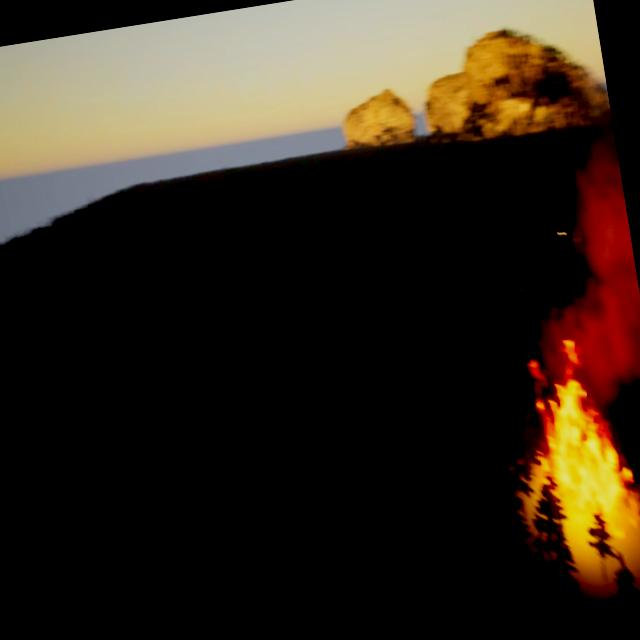fire: (520, 340, 640, 552)
smoke: (518, 152, 640, 382)
